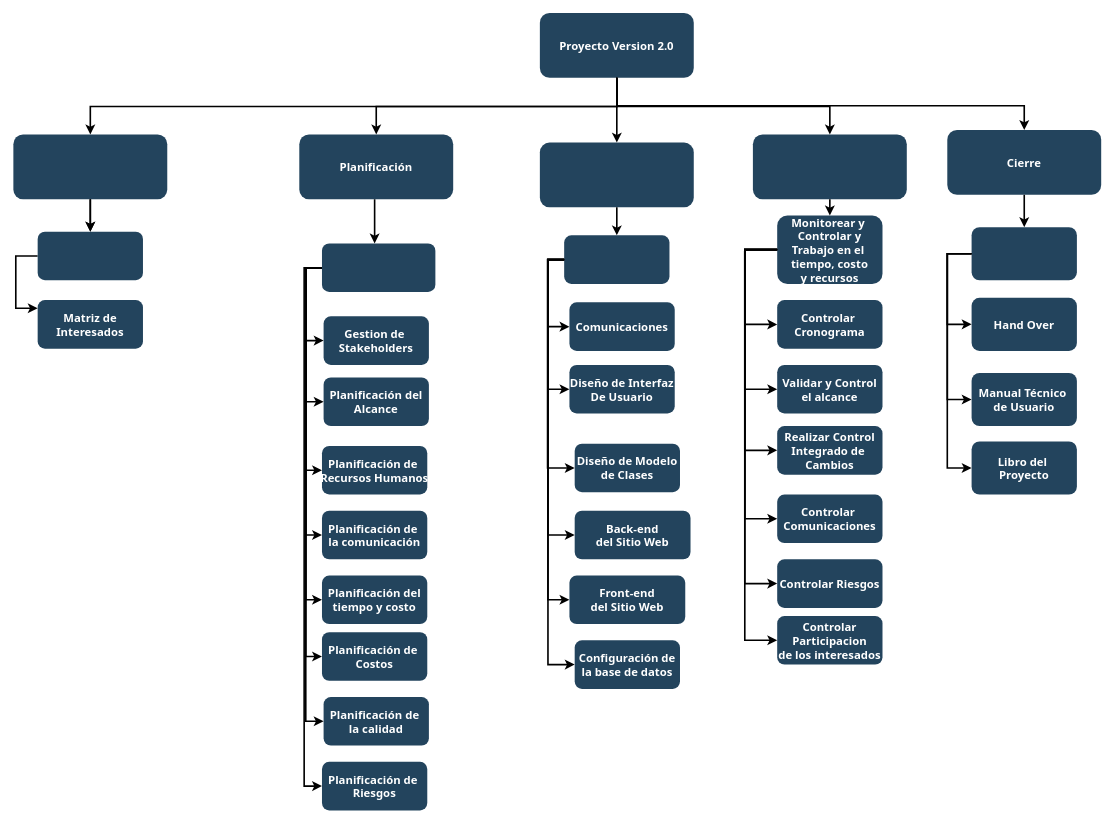
The diagram is 1115 pixels wide and 824 high, and some of its shapes have lost their labels. Each missing label, with the box of its shape:
Aseguramiento de la Calidad: (564, 235, 669, 284)
Cierre Administrativo: (971, 227, 1076, 280)
Ejecucion: (539, 142, 693, 207)
Inicio: (13, 134, 167, 199)
Monitoreo y Control: (752, 134, 906, 199)
Plan de Integracion: (322, 243, 435, 292)
Project Charter: (37, 231, 143, 280)
